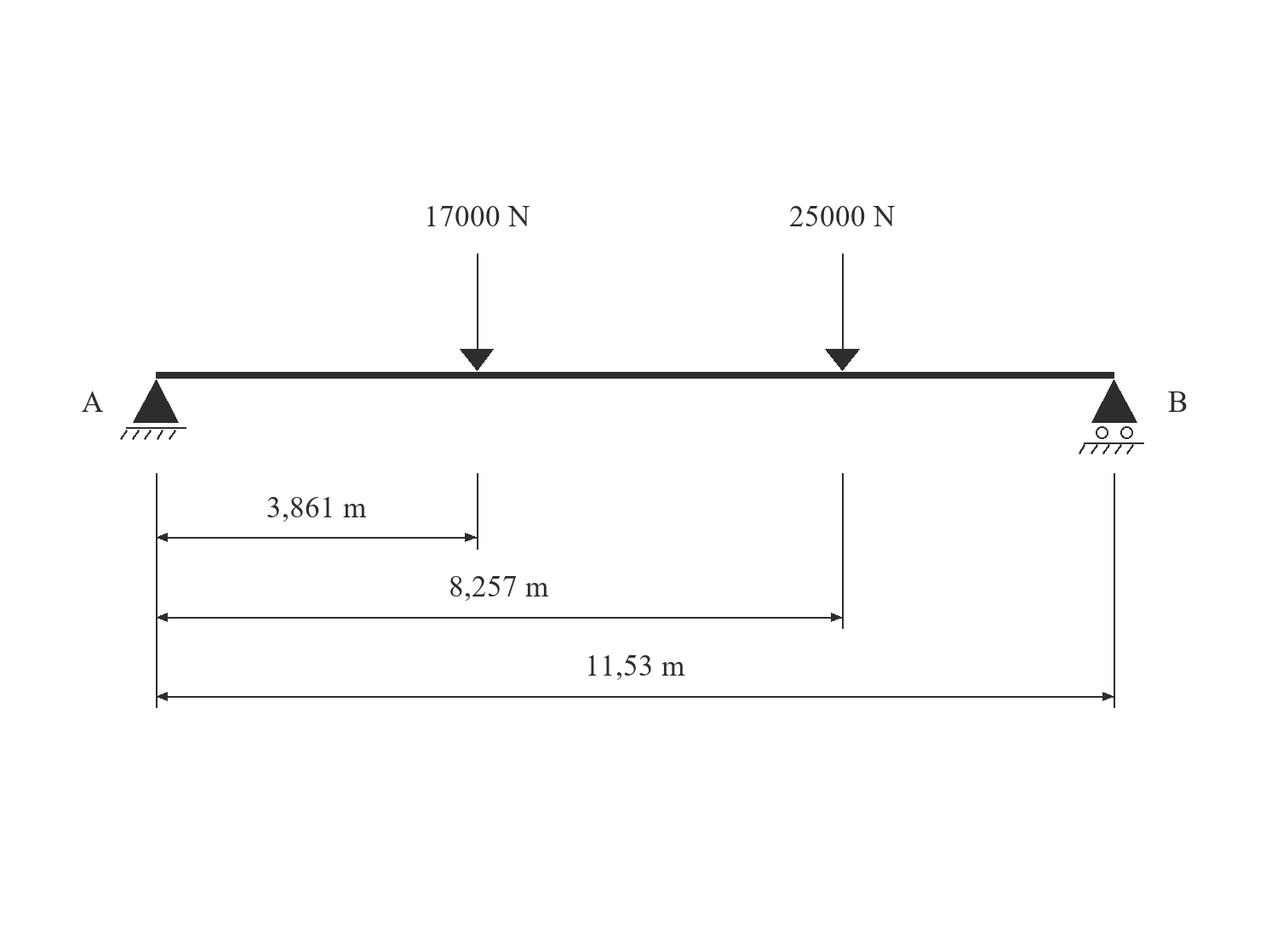pin_support: (120, 380, 186, 440)
point_load: (825, 254, 860, 371), (460, 254, 494, 371)
roller_support: (1079, 380, 1144, 454)
